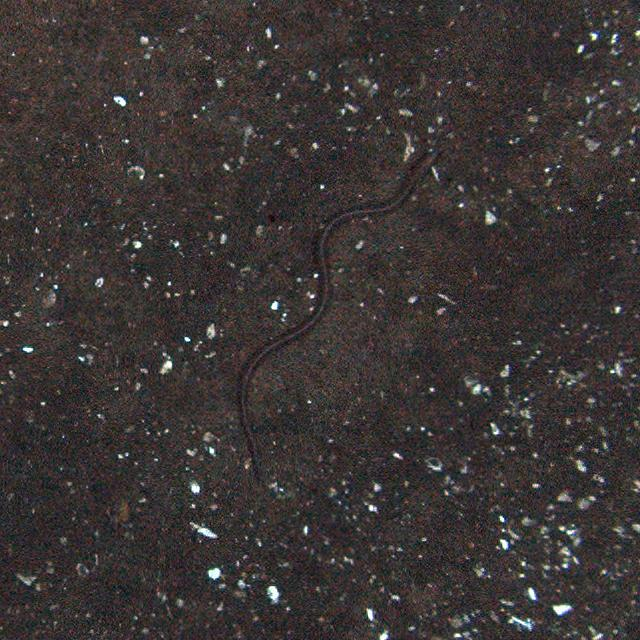eel: (233, 149, 441, 487)
